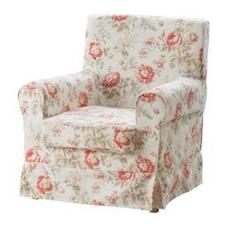chair: (1, 9, 224, 223)
